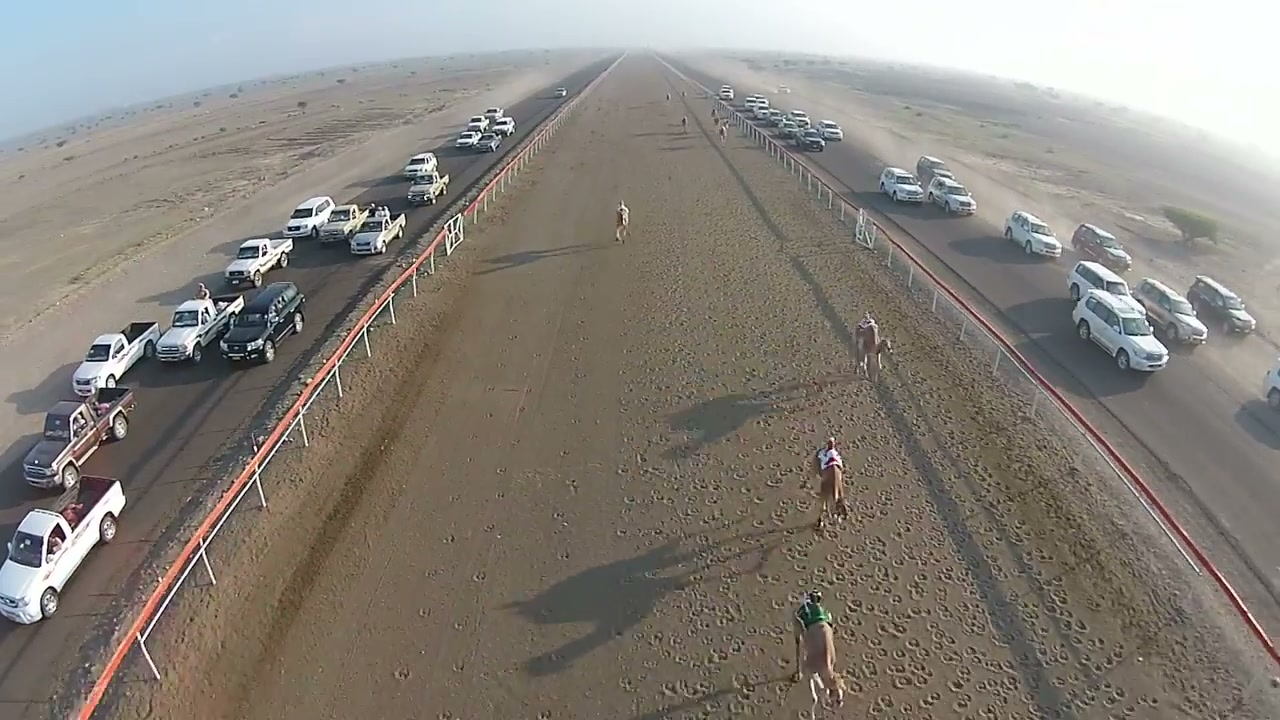animal_foot_print: (844, 404, 1133, 717), (652, 282, 775, 708)
